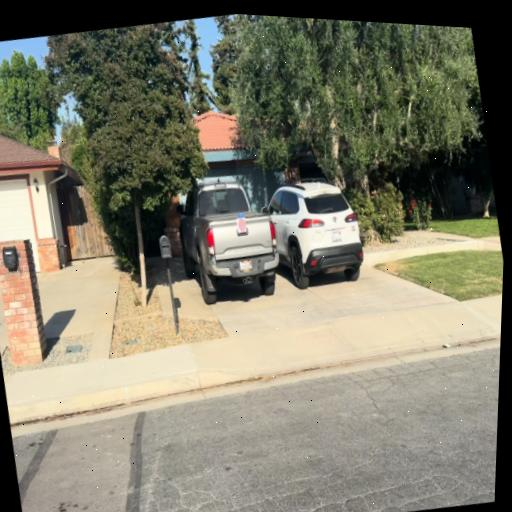bullseye: (237, 217, 247, 233)
